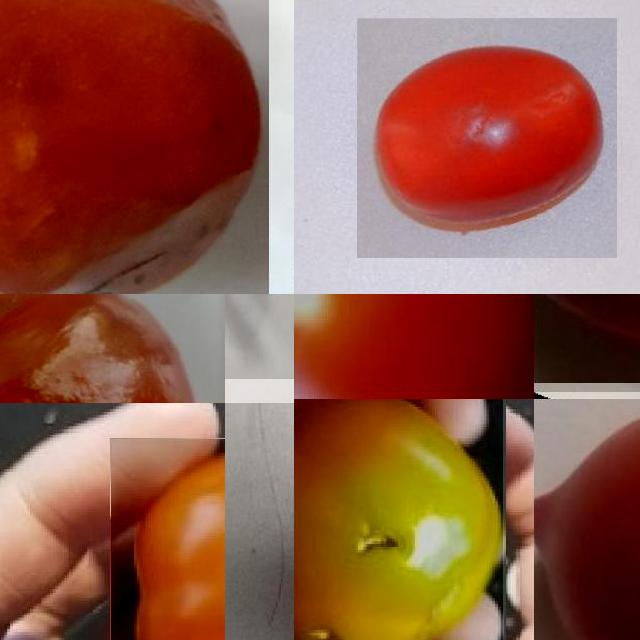0: (110, 438, 225, 640)
1: (0, 0, 269, 294), (0, 294, 225, 403)
Fresh Tomato: (358, 18, 618, 258), (534, 399, 640, 640), (294, 294, 534, 399)
Rotten Tomato: (294, 399, 502, 640)
